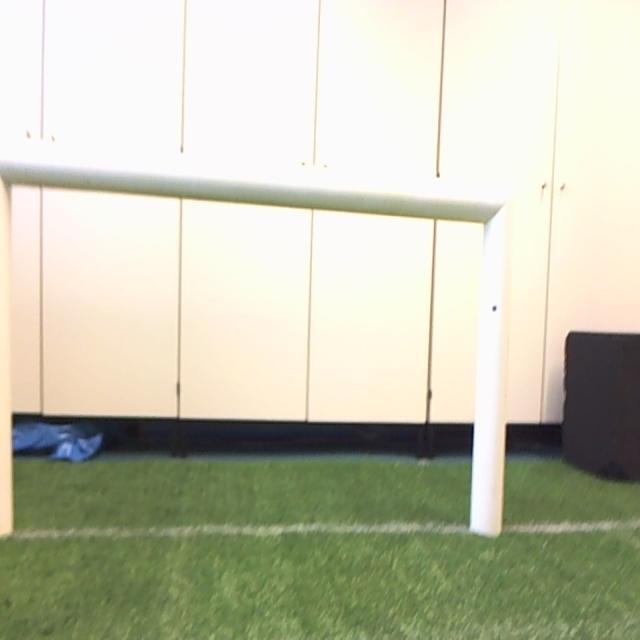goalpost: (469, 191, 512, 533), (0, 154, 14, 533)
